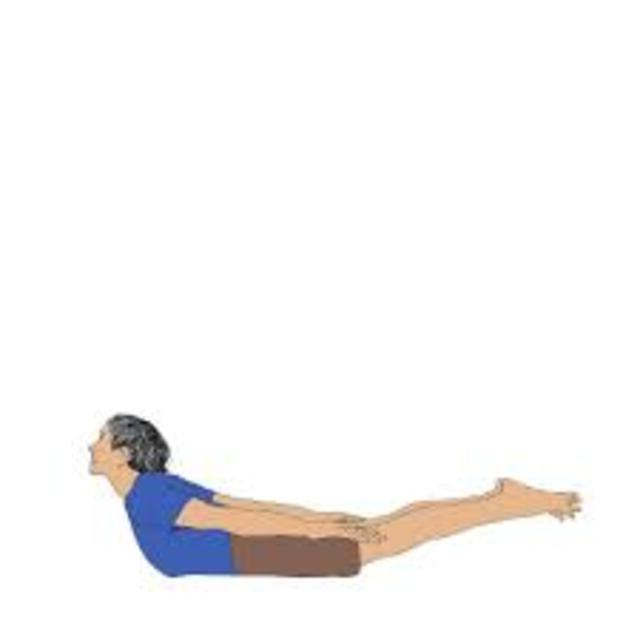Locust_Pose: (86, 413, 586, 578)
